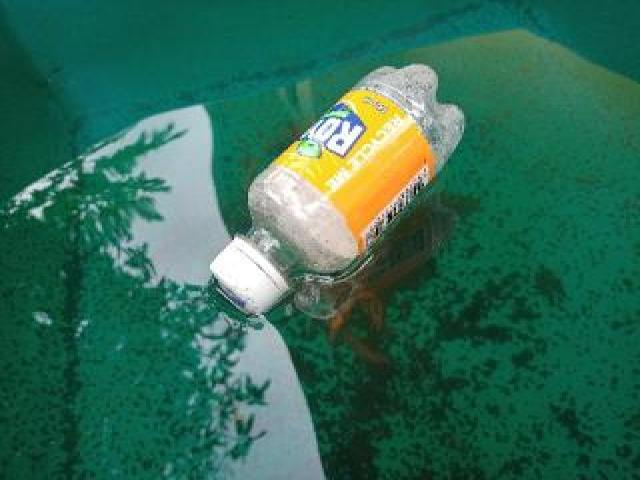Bottle: (205, 63, 468, 318)
